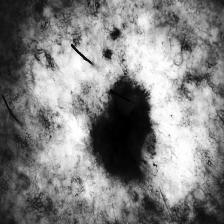Benign Marking or Mole: (88, 78, 166, 175)
